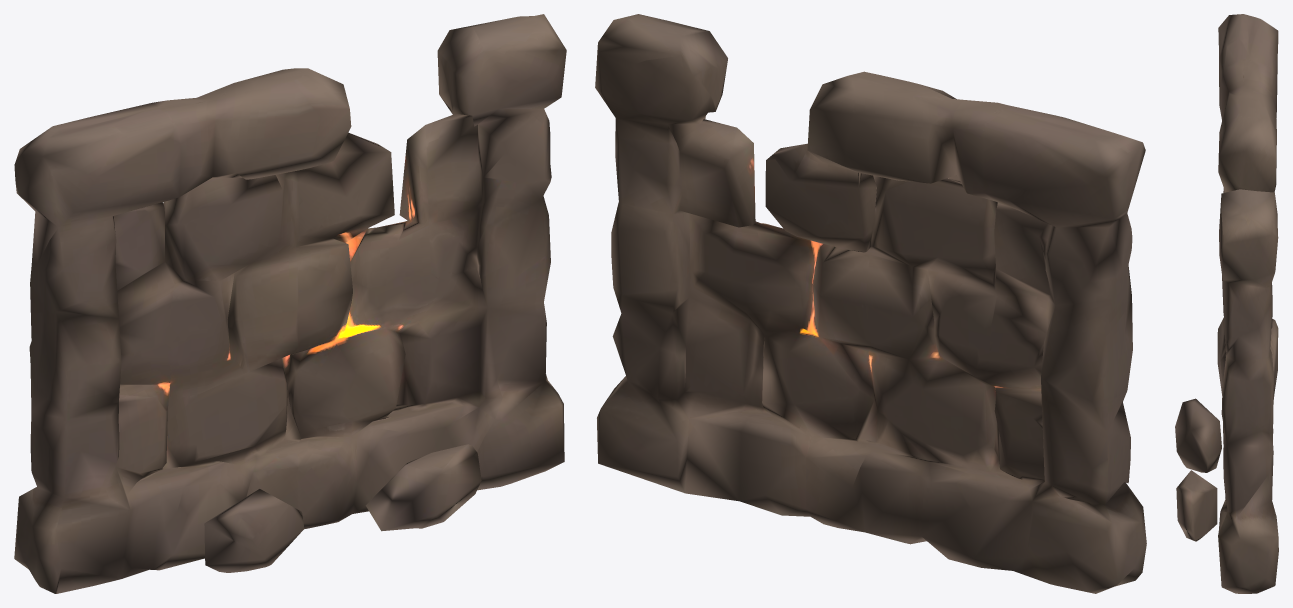
File: fg_wall_broken-HHU0xK2O.glb
The picture shows the model from 3 angles, left to right: view 1: azimuth 30°, elevation 25°; view 2: azimuth 150°, elevation 25°; view 3: azimuth 270°, elevation 25°; orthographic projection. The views are drawn at different scales.
Parts seen in each view (by area): view 1: tripo_node_2020c7c9-5a94-4280-8e17-ef7b17d8751a; view 2: tripo_node_2020c7c9-5a94-4280-8e17-ef7b17d8751a; view 3: tripo_node_2020c7c9-5a94-4280-8e17-ef7b17d8751a.
Boxes of the visible parts, left/top/right/bottom form: tripo_node_2020c7c9-5a94-4280-8e17-ef7b17d8751a: left=14, top=14, right=566, bottom=593; tripo_node_2020c7c9-5a94-4280-8e17-ef7b17d8751a: left=595, top=14, right=1146, bottom=593; tripo_node_2020c7c9-5a94-4280-8e17-ef7b17d8751a: left=1175, top=14, right=1278, bottom=593.
Bounding box in the file's own units: 4.9 × 4 × 0.9938.
1 material, 1 textured.
